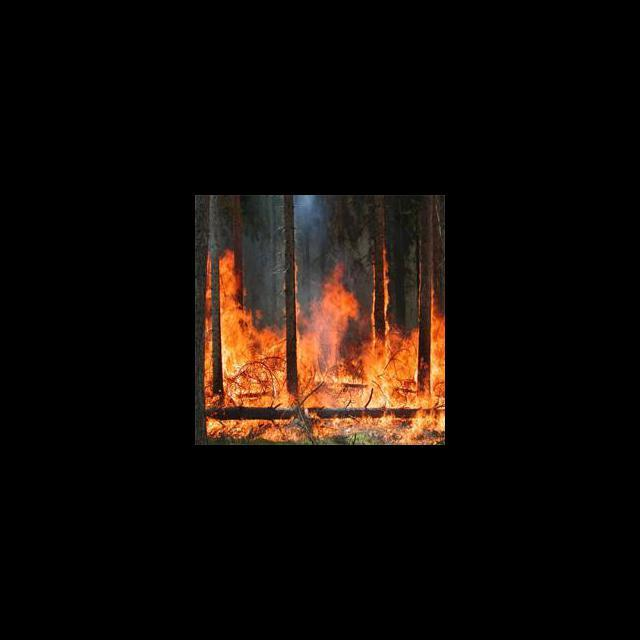Fire: (198, 246, 445, 439)
